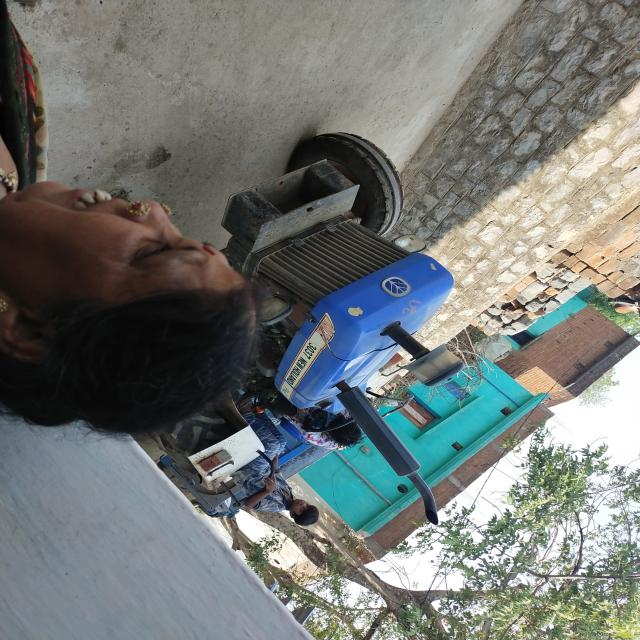tractor: (173, 110, 459, 589)
